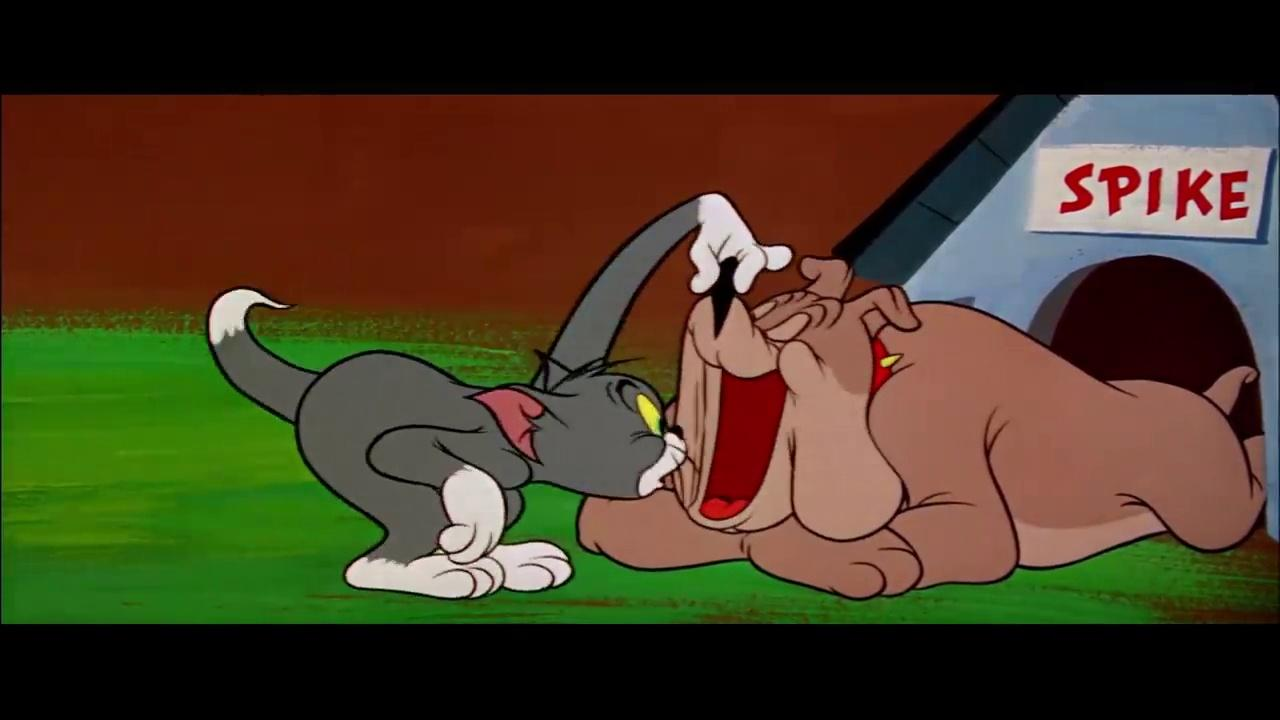Tom: (204, 188, 796, 600)
